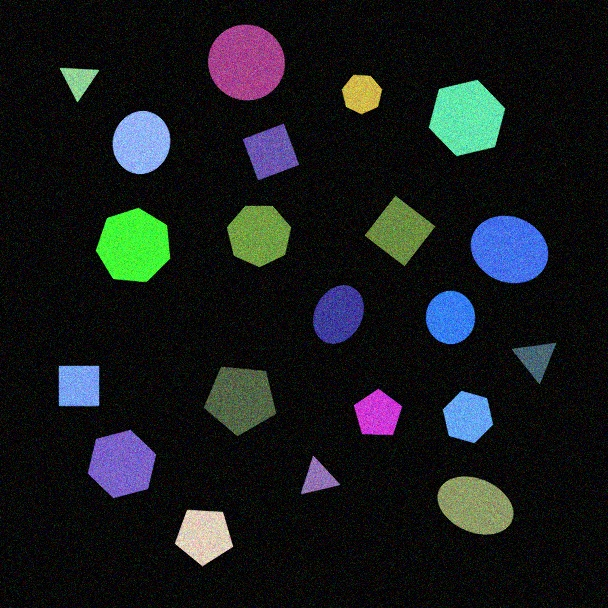Circulo: (207, 24, 286, 101), (112, 110, 171, 175), (425, 290, 476, 345)
Elipse: (470, 215, 549, 284), (437, 476, 514, 535), (312, 284, 365, 345)
Heptagono: (95, 207, 171, 283), (226, 205, 292, 268), (341, 74, 383, 115)
Hexagono: (428, 79, 506, 157), (87, 429, 157, 499), (442, 390, 494, 444)
Pentagono: (203, 366, 277, 437), (174, 509, 234, 567), (353, 388, 403, 436)
Quadrado: (364, 195, 436, 267), (242, 123, 300, 181), (58, 365, 100, 407)
Triangulo: (511, 342, 557, 385), (300, 456, 341, 495), (59, 67, 100, 103)
